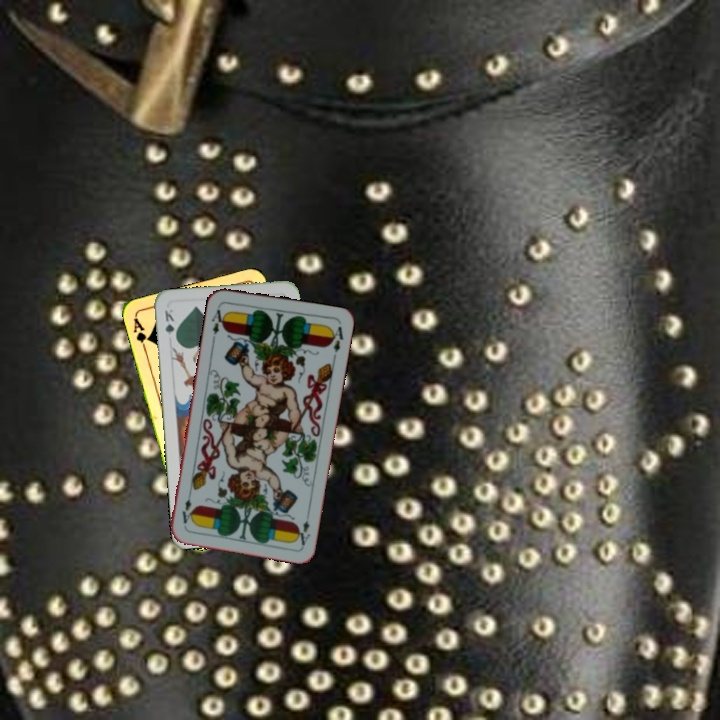EA: (293, 508, 313, 548), (207, 302, 229, 337)
GA: (129, 314, 153, 353)
GK: (161, 305, 179, 344)
